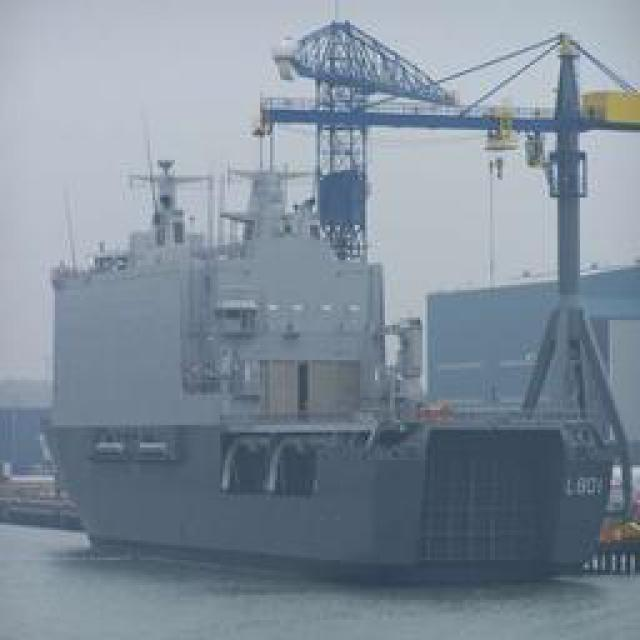Ship: (41, 23, 640, 591)
